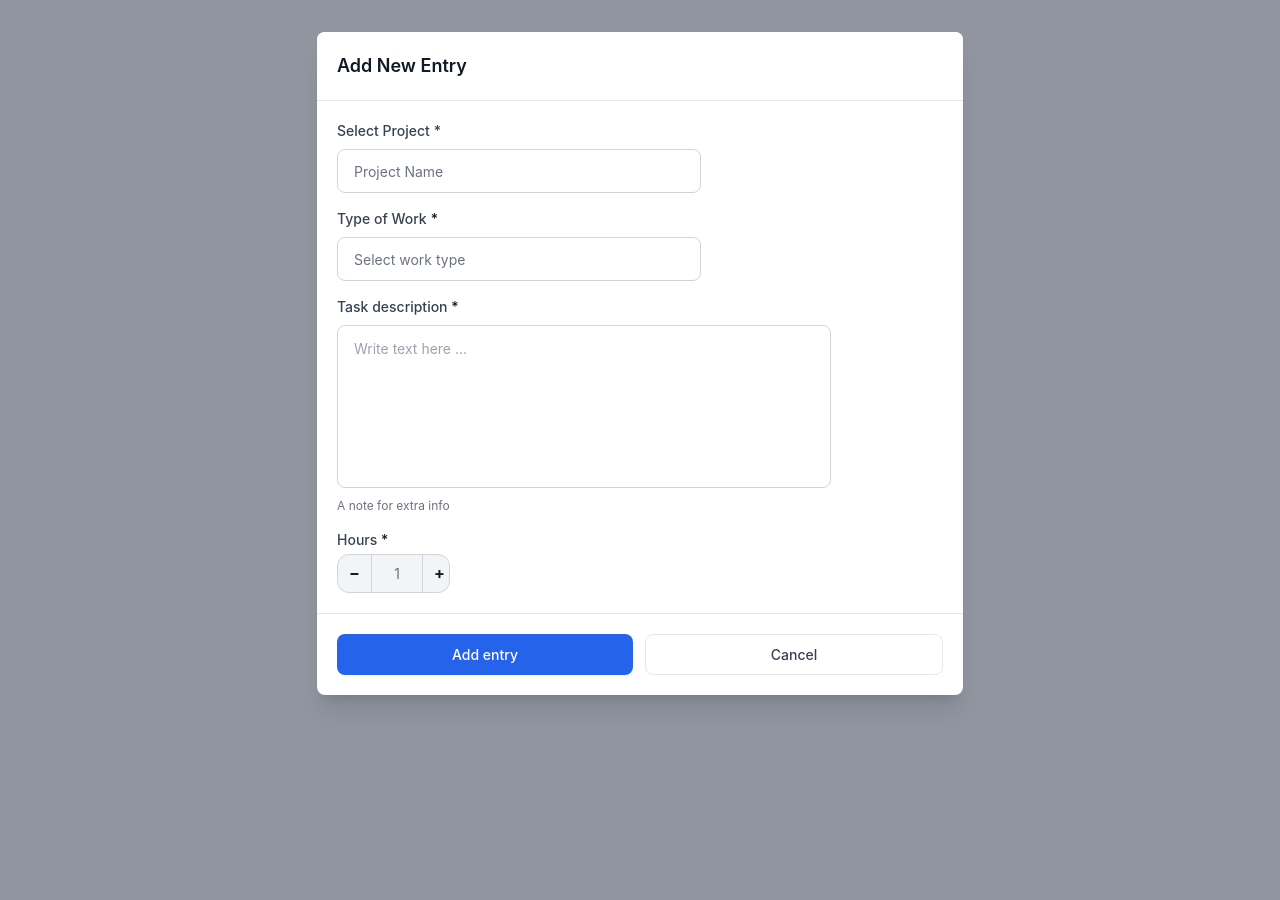
Test: TimesheetEntryModal › increments hours when + button is clicked
Expected: the number field labelled "Hours *" holds "1", [372,555,422,592]
Click the button "+": (439, 574) [422,555,456,592]
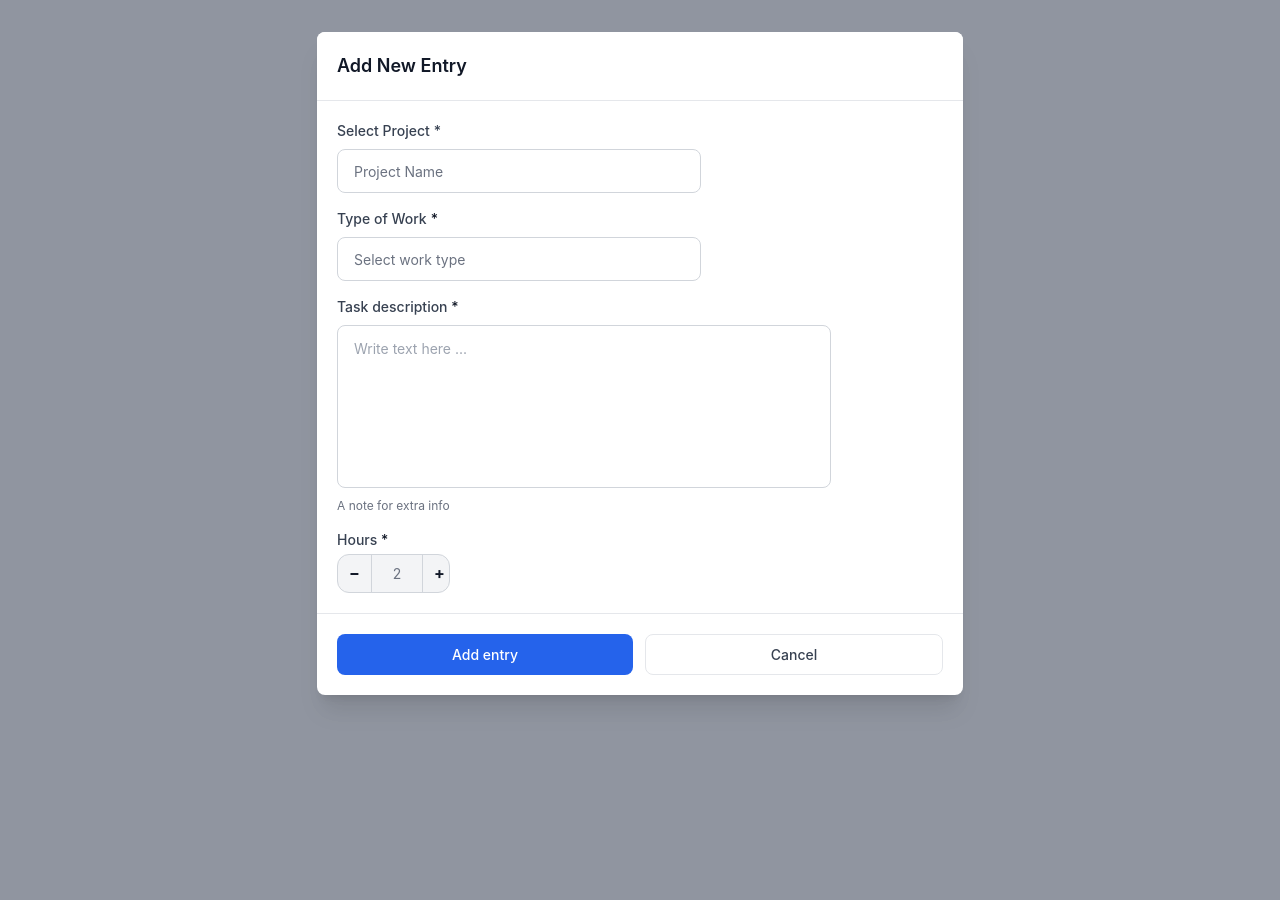
Expected: the number field labelled "Hours *" holds "2", [372,555,422,592]
